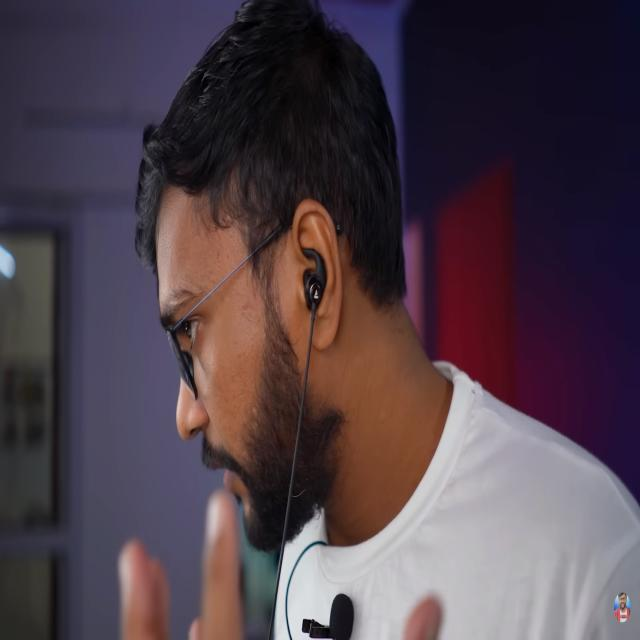Neckband: (268, 243, 354, 640)
